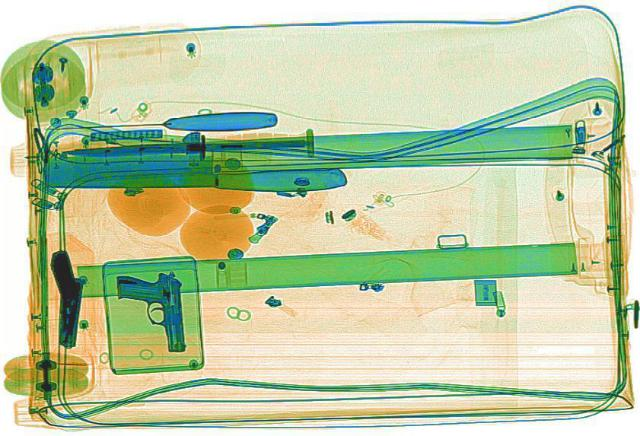Gun: (115, 267, 187, 352), (48, 247, 86, 346)
Knife: (41, 146, 346, 194), (42, 109, 278, 136), (60, 136, 304, 157)
